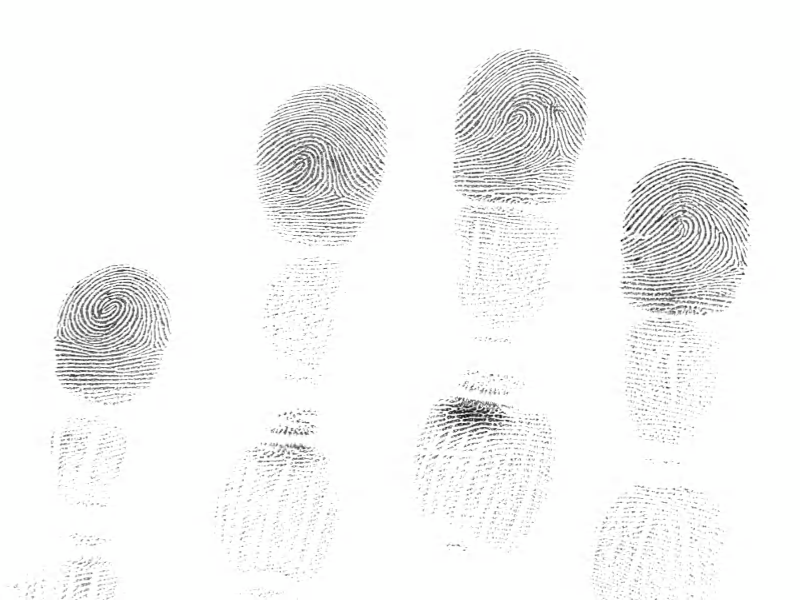D: (231, 70, 403, 255), (438, 33, 595, 212), (611, 142, 760, 322), (48, 257, 183, 408)
P: (431, 203, 575, 389), (230, 245, 371, 428), (607, 316, 748, 485), (41, 415, 157, 535)
